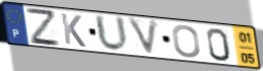0: (205, 27, 233, 63)
K: (59, 11, 88, 49)
O: (171, 24, 202, 59)
U: (93, 13, 131, 54)
V: (125, 17, 161, 59)
Z: (24, 6, 63, 48)
